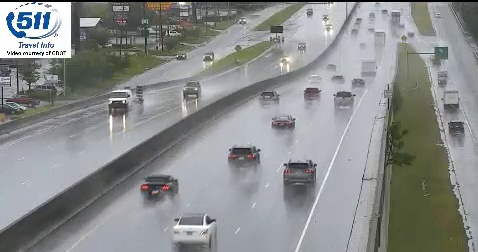car: (172, 213, 217, 245), (284, 159, 316, 186), (140, 175, 177, 197), (228, 144, 259, 167), (271, 114, 295, 129), (334, 92, 354, 107), (260, 90, 279, 104), (304, 87, 320, 100)
